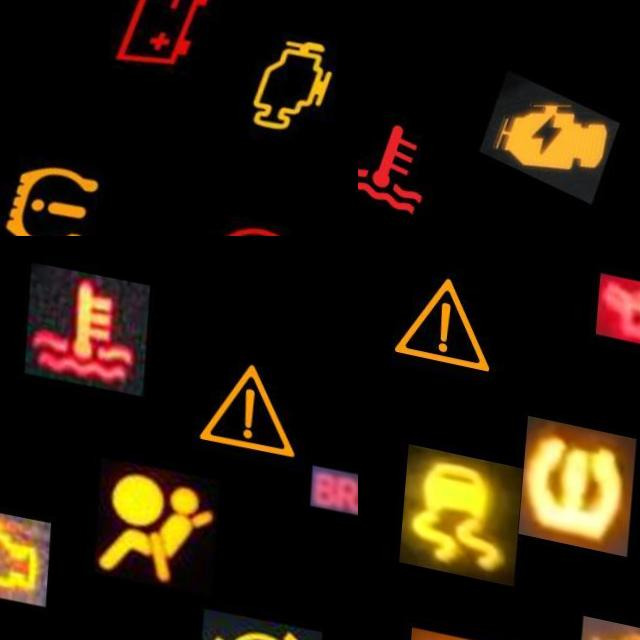Central Warning lamp: (188, 319, 316, 460), (385, 238, 510, 376)
Engine cooling system: (358, 62, 466, 230), (25, 252, 152, 385)
